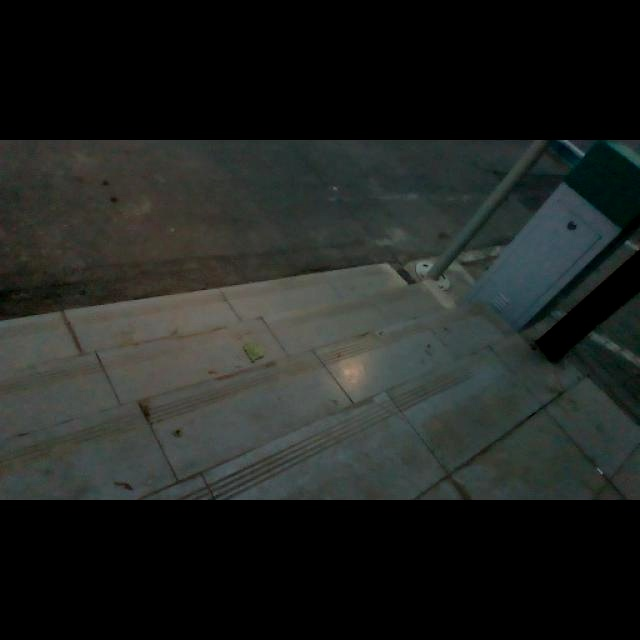stair: (4, 240, 498, 485)
